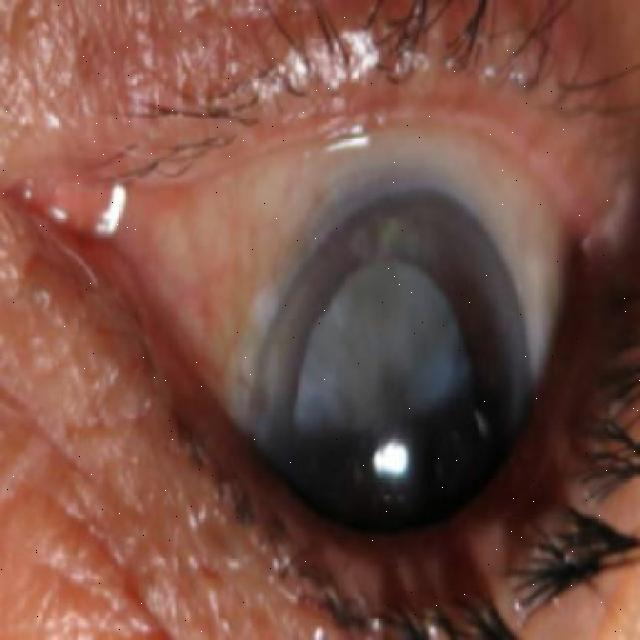Cataract: (249, 190, 534, 582)
